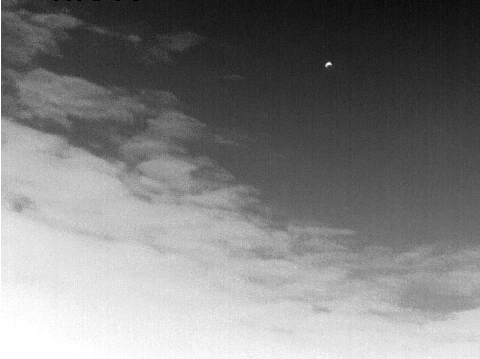dim target: (324, 61, 333, 68)
